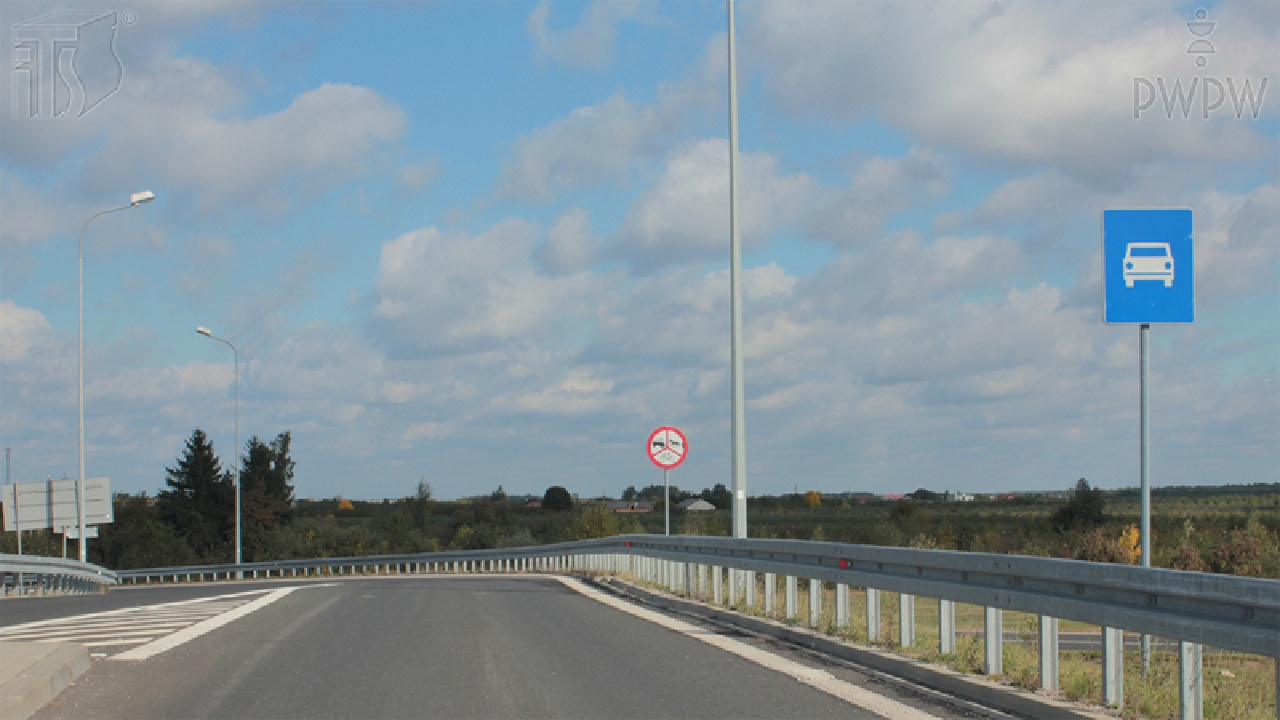D7: (1103, 208, 1196, 324)
